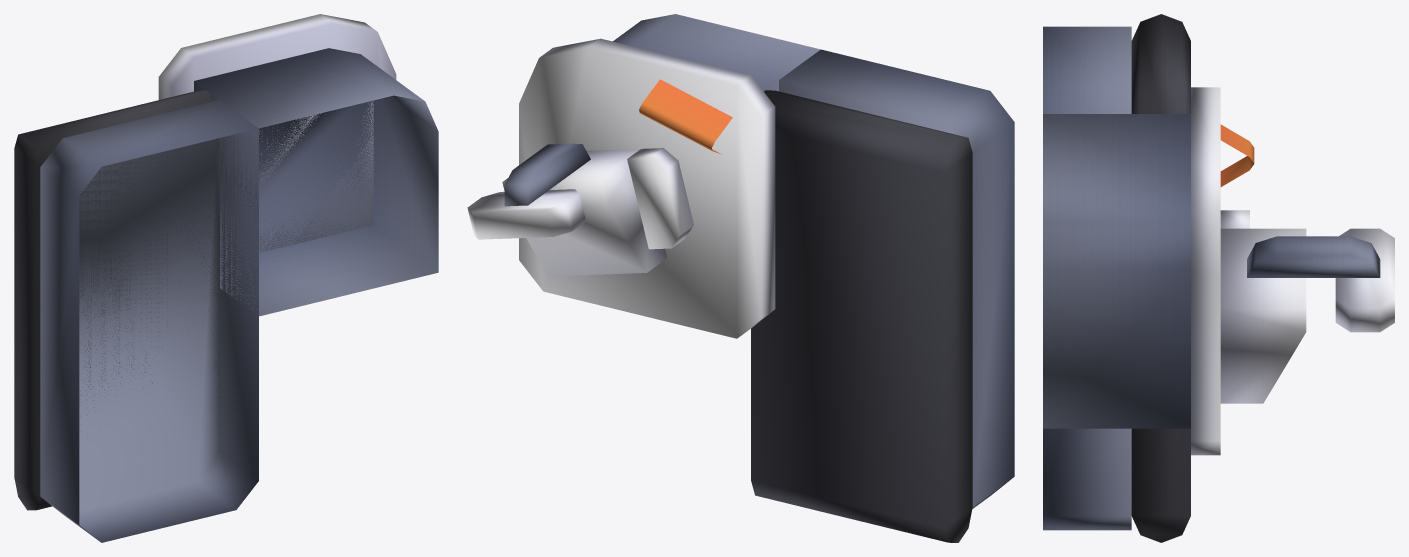
The model's file is cash-register.001.obj.
3 renders of one model, left to right at view 1: azimuth 30°, elevation 25°; view 2: azimuth 150°, elevation 25°; view 3: azimuth 270°, elevation 25°, orthographic. The views are drawn at different scales.
Parts seen in each view (by area): view 1: cash-register; view 2: cash-register; view 3: cash-register.
Part boxes in pixels (x1,y1,x2,y2): cash-register: [14, 14, 438, 542]; cash-register: [467, 14, 1014, 542]; cash-register: [1043, 14, 1394, 542].
Bounding box in the file's own units: 0.85 × 0.85 × 0.5949.
